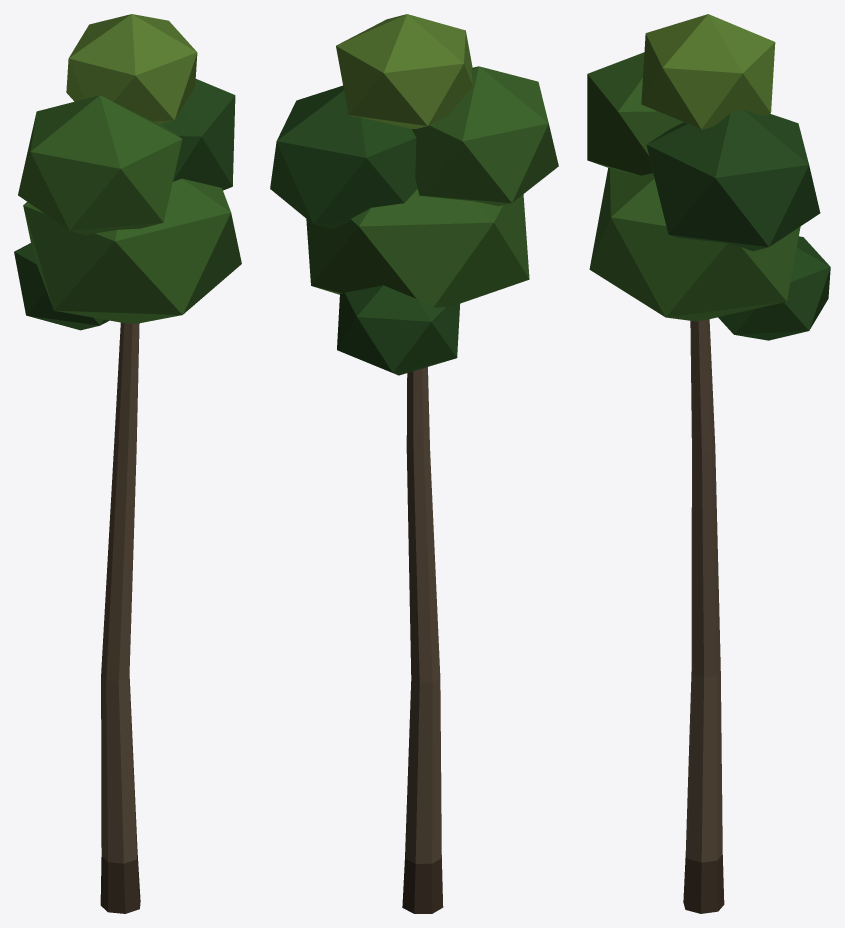
The model's file is arvore_mata_b.glb.
3 views of the same model, side by side, from view 1: azimuth 30°, elevation 25°; view 2: azimuth 150°, elevation 25°; view 3: azimuth 270°, elevation 25° (orthographic).
Parts seen in each view (by area): view 1: arvore_mata_b; view 2: arvore_mata_b; view 3: arvore_mata_b.
Part boxes in pixels (bbox=[...]): arvore_mata_b: bbox=[14, 14, 241, 913]; arvore_mata_b: bbox=[270, 14, 558, 913]; arvore_mata_b: bbox=[587, 14, 830, 913].
Bounding box in the file's own units: 5.31 × 19.71 × 4.84.
